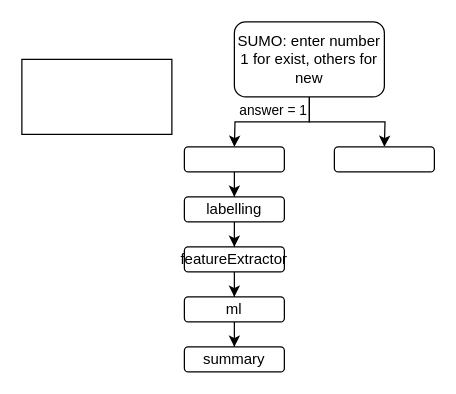
The diagram is 456 pixels wide and 394 high, and some of its shapes have lost their labels. The centre of each missing label's shape, as x and y in pixels:
"csv file:" belongs at (96,96).
"new~" belongs at (383,159).
"prepareCase" belongs at (233,159).
